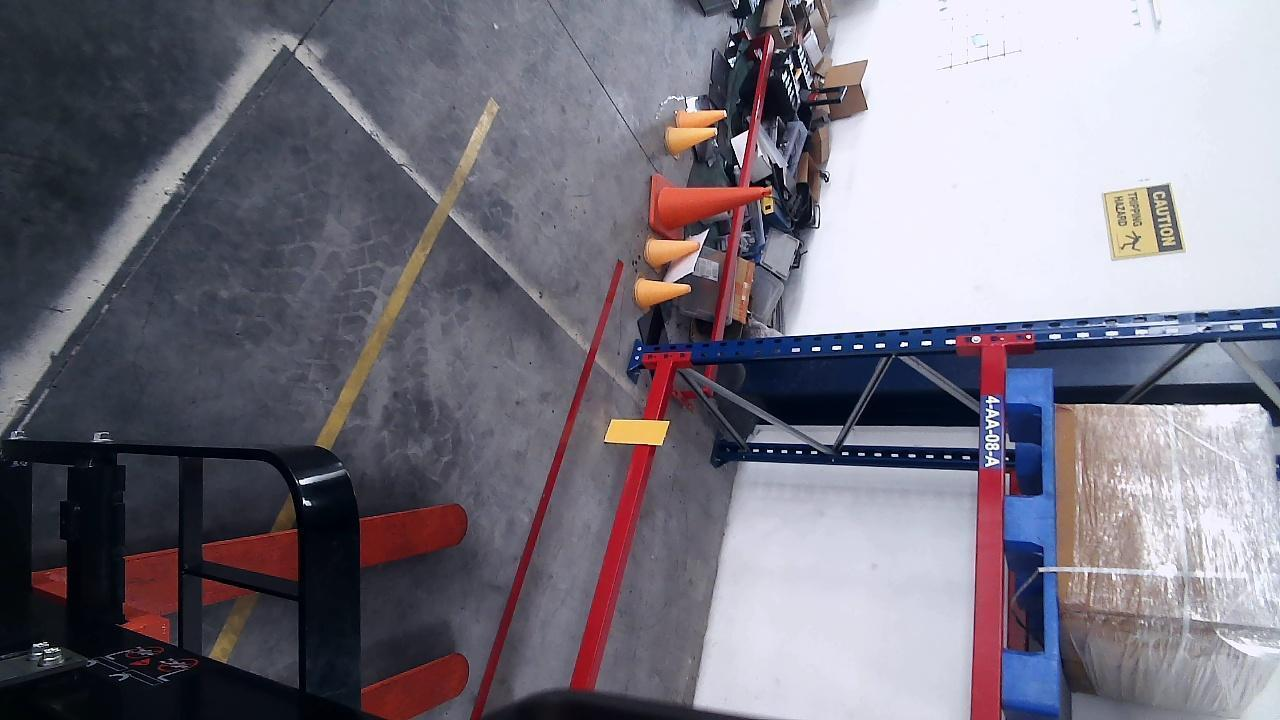red_line: (469, 255, 627, 718)
yellow_line: (314, 94, 501, 453)
